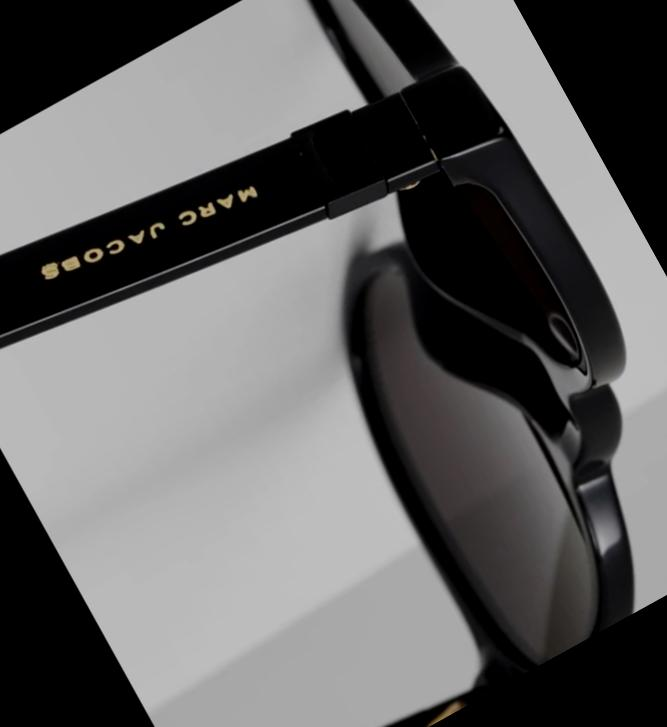MARC-JACOBS: (37, 156, 259, 307)
